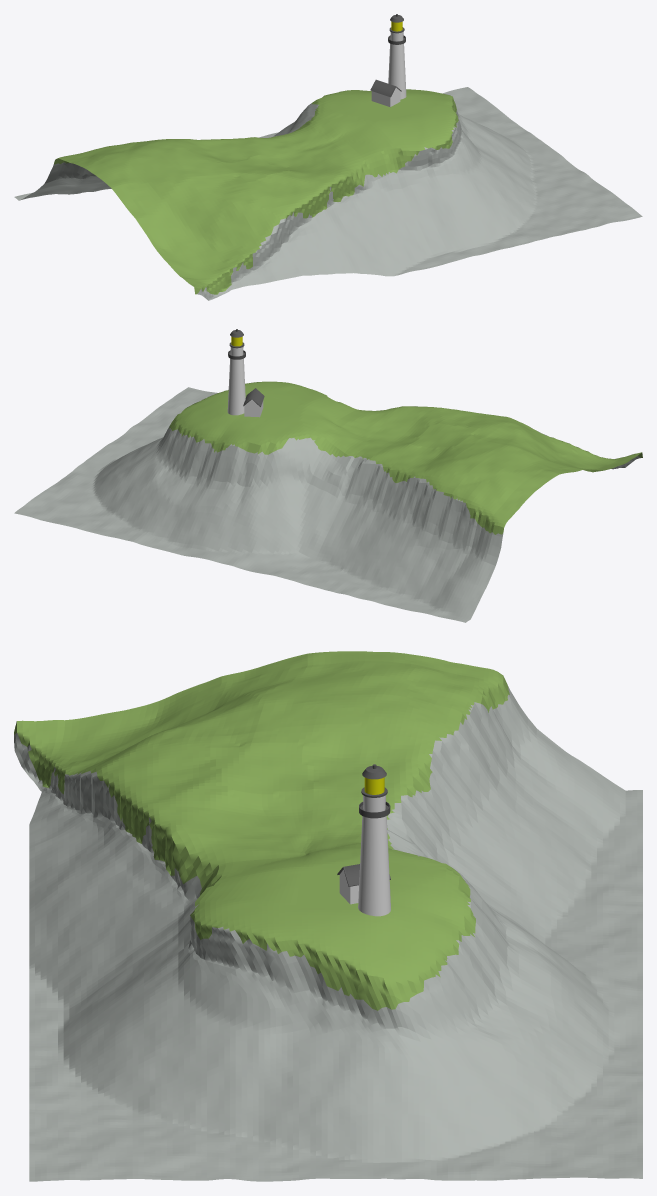
Rendered from headland_with_lighthouse_mirrored.fbx.
3 renders of one model, top to bottom at view 1: azimuth 30°, elevation 25°; view 2: azimuth 150°, elevation 25°; view 3: azimuth 270°, elevation 25°, orthographic. The views are drawn at different scales.
Visible parts, largest first — view 1: land, lighthouse_tower, lighthouse_house; view 2: land, lighthouse_tower, lighthouse_house; view 3: land, lighthouse_tower, lighthouse_house.
Boxes of the visible parts, <box> form: land: <box>14,87,642,300</box>; lighthouse_tower: <box>388,14,406,99</box>; lighthouse_house: <box>370,79,401,106</box>; land: <box>14,381,642,622</box>; lighthouse_tower: <box>227,329,245,415</box>; lighthouse_house: <box>243,388,264,417</box>; land: <box>14,651,642,1181</box>; lighthouse_tower: <box>358,764,390,916</box>; lighthouse_house: <box>337,864,390,904</box>.
Bounding box in the file's own units: 1 × 0.3498 × 0.6854.
